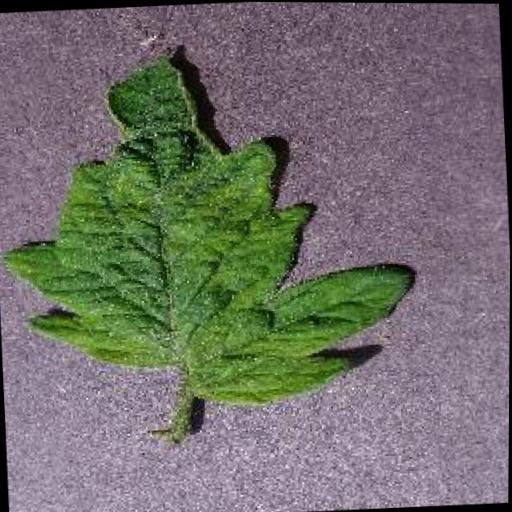Mosaic Virus: (0, 36, 424, 419)
